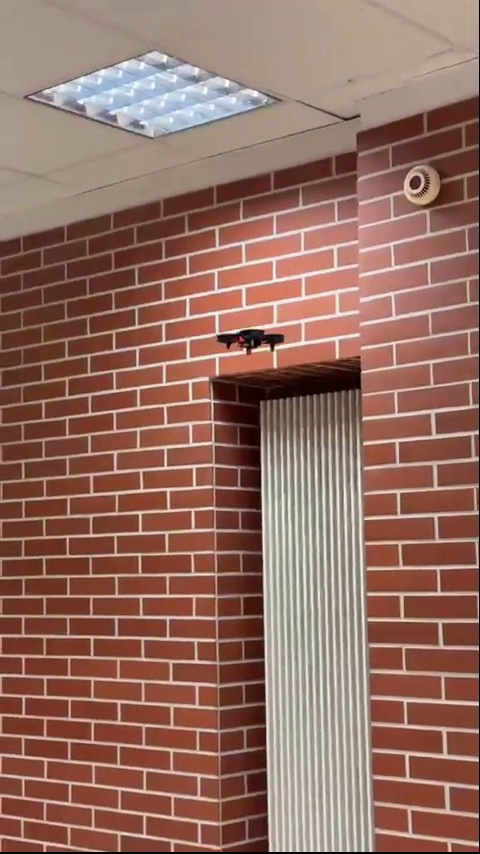drone: (217, 331, 285, 353)
